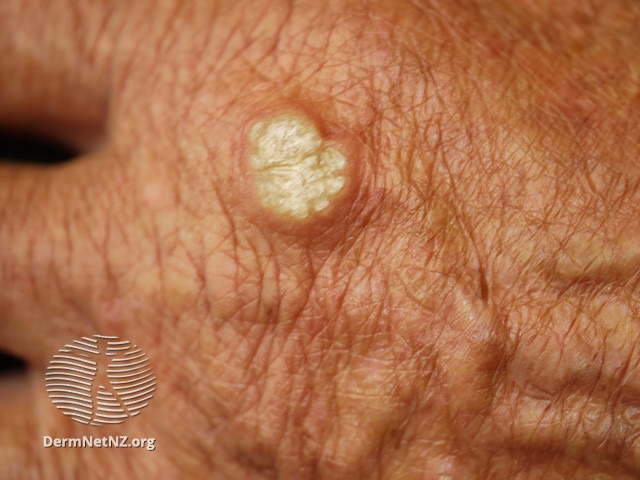Warts: (235, 92, 361, 235)
